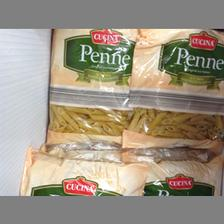Nudeln: (124, 28, 224, 160), (44, 28, 136, 148)
